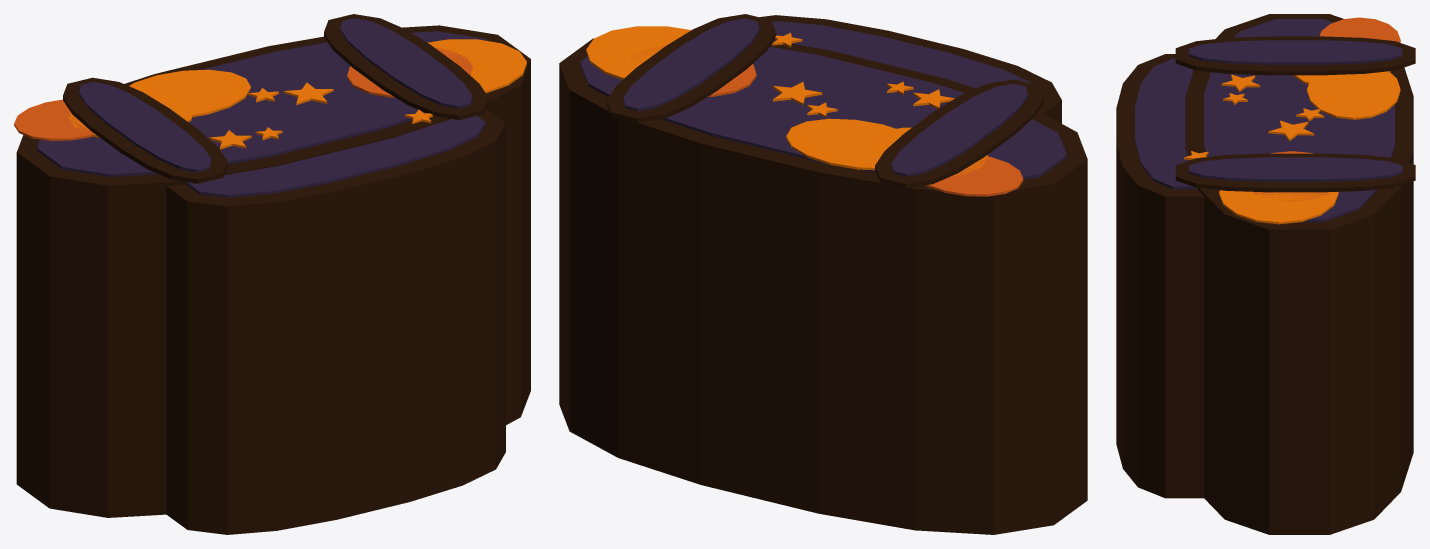
File: bag_noite_estrelada.fbx
3 views of the same model, side by side, from view 1: azimuth 30°, elevation 25°; view 2: azimuth 150°, elevation 25°; view 3: azimuth 270°, elevation 25° (orthographic). The views are drawn at different scales.
Visible parts, largest first — view 1: bag_noite_estrelada_mochila; view 2: bag_noite_estrelada_mochila; view 3: bag_noite_estrelada_mochila.
Boxes of the visible parts, left/top/right/bottom form: bag_noite_estrelada_mochila: left=14, top=14, right=530, bottom=534; bag_noite_estrelada_mochila: left=559, top=14, right=1087, bottom=534; bag_noite_estrelada_mochila: left=1116, top=14, right=1415, bottom=534.
Bounding box in the file's own units: 2.73 × 1.87 × 1.6.
Materials: 1 (1 with a texture image).
